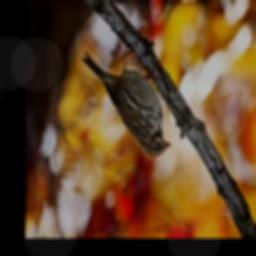Sparrow: (82, 44, 172, 158)
